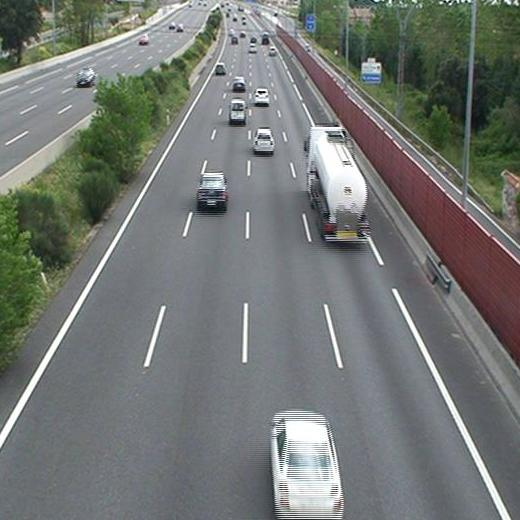car: (271, 413, 343, 516), (197, 172, 226, 205), (253, 129, 274, 150), (253, 89, 270, 103), (233, 77, 246, 90), (215, 63, 226, 74), (248, 42, 258, 54), (267, 46, 276, 56)
tank-truck: (305, 126, 369, 239)
van: (229, 100, 245, 123)
